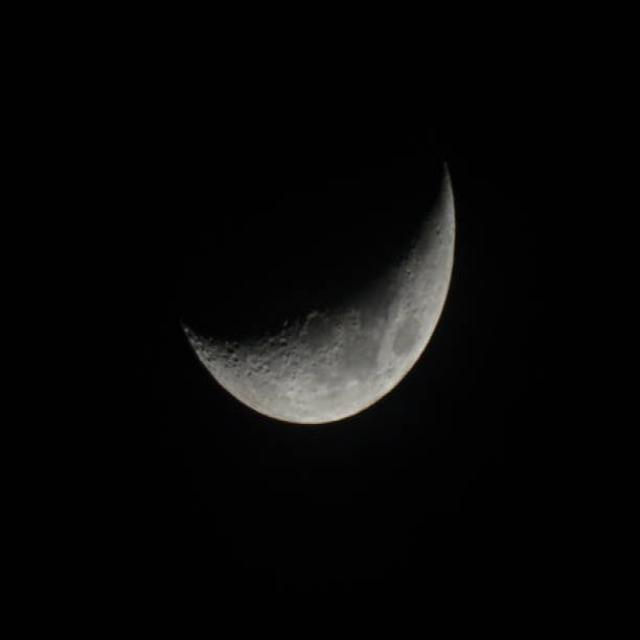moon: (170, 83, 458, 426)
